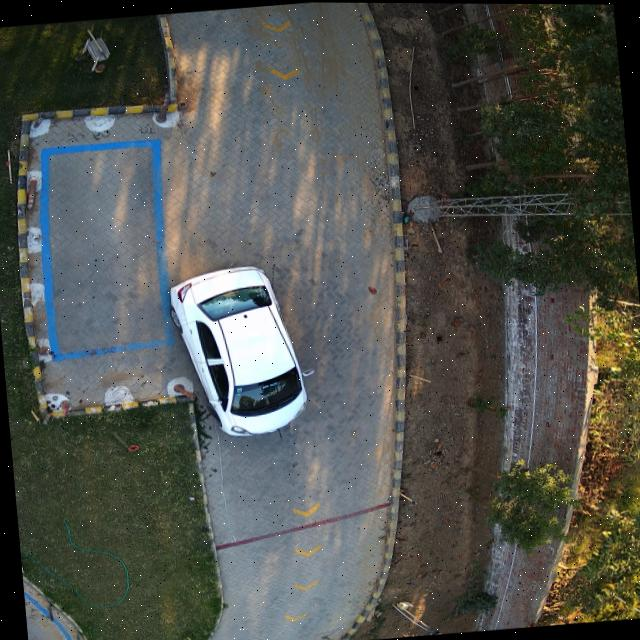car: (169, 265, 305, 436)
